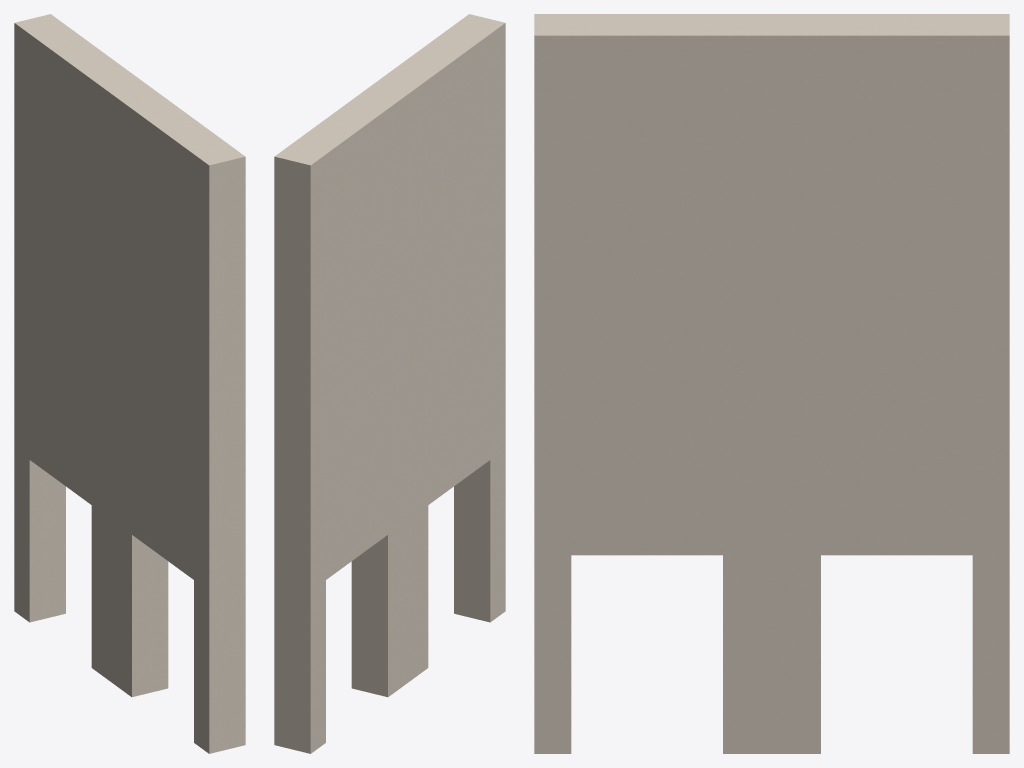
The model's file is SM_Concrete03.fbx.
3 renders of one model, left to right at view 1: azimuth 30°, elevation 25°; view 2: azimuth 150°, elevation 25°; view 3: azimuth 270°, elevation 25°, orthographic. The views are drawn at different scales.
Parts seen in each view (by area): view 1: SM_Concrete03_LOD0; view 2: SM_Concrete03_LOD0; view 3: SM_Concrete03_LOD0.
Boxes of the visible parts, x1,y1,x2,y2 form: SM_Concrete03_LOD0: (14,14,245,753); SM_Concrete03_LOD0: (274,14,505,753); SM_Concrete03_LOD0: (534,14,1009,753).
Bounding box in the file's own units: 48.47 × 450 × 750.
